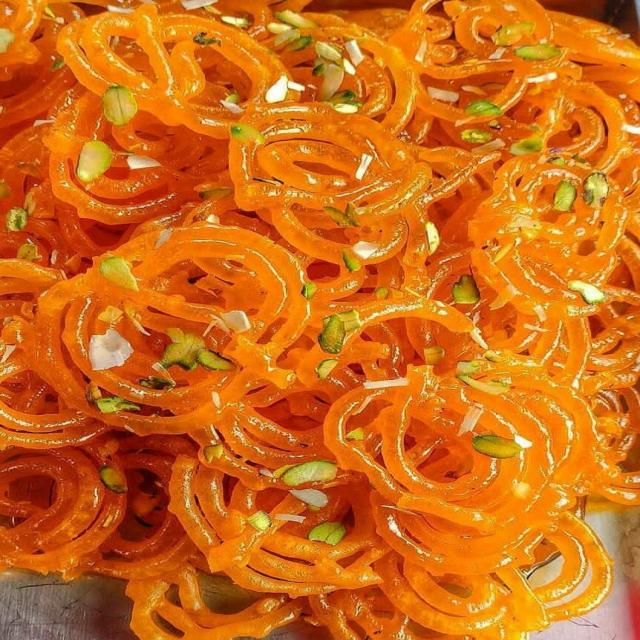jalebi: (0, 6, 640, 640)
